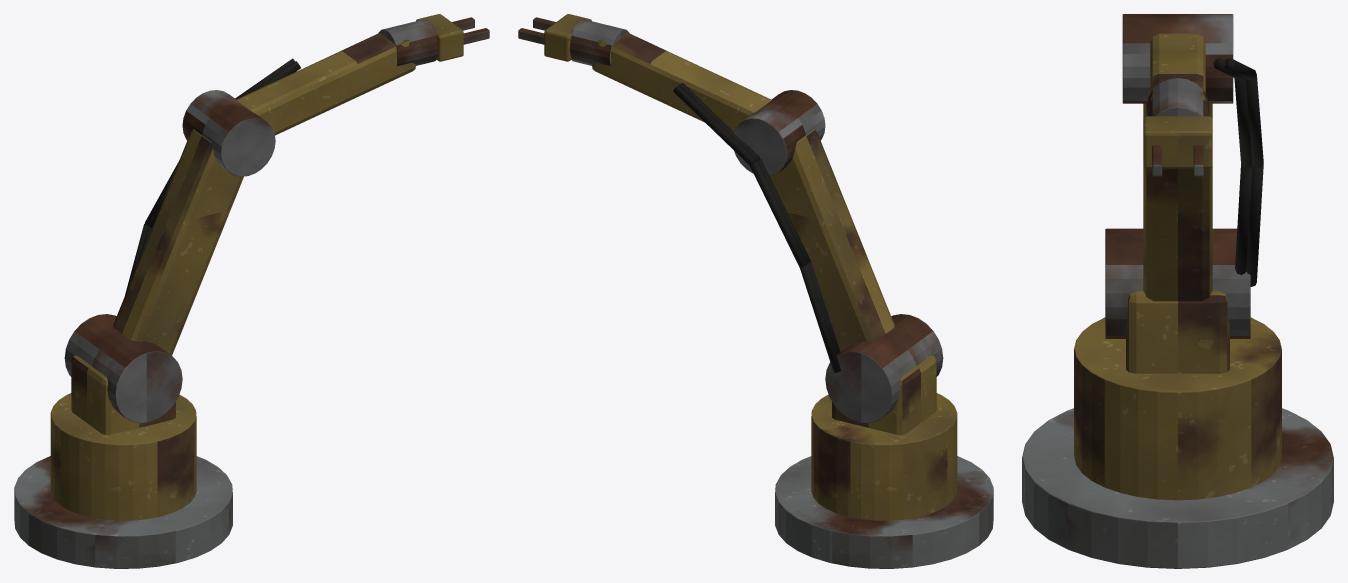
Rendered from F03_robotic_arm.glb.
The picture shows the model from 3 angles, left to right: view 1: azimuth 30°, elevation 25°; view 2: azimuth 150°, elevation 25°; view 3: azimuth 270°, elevation 25°; orthographic projection. The views are drawn at different scales.
Parts seen in each view (by area): view 1: F03_robotic_arm; view 2: F03_robotic_arm; view 3: F03_robotic_arm.
Boxes of the visible parts, x1=… form: F03_robotic_arm: x1=14, y1=14, x2=489, y2=568; F03_robotic_arm: x1=518, y1=14, x2=993, y2=568; F03_robotic_arm: x1=1022, y1=14, x2=1333, y2=568.
Size of the model in its own units: 2.5 by 2.26 by 1.05.
Materials: 4 (4 with a texture image).
